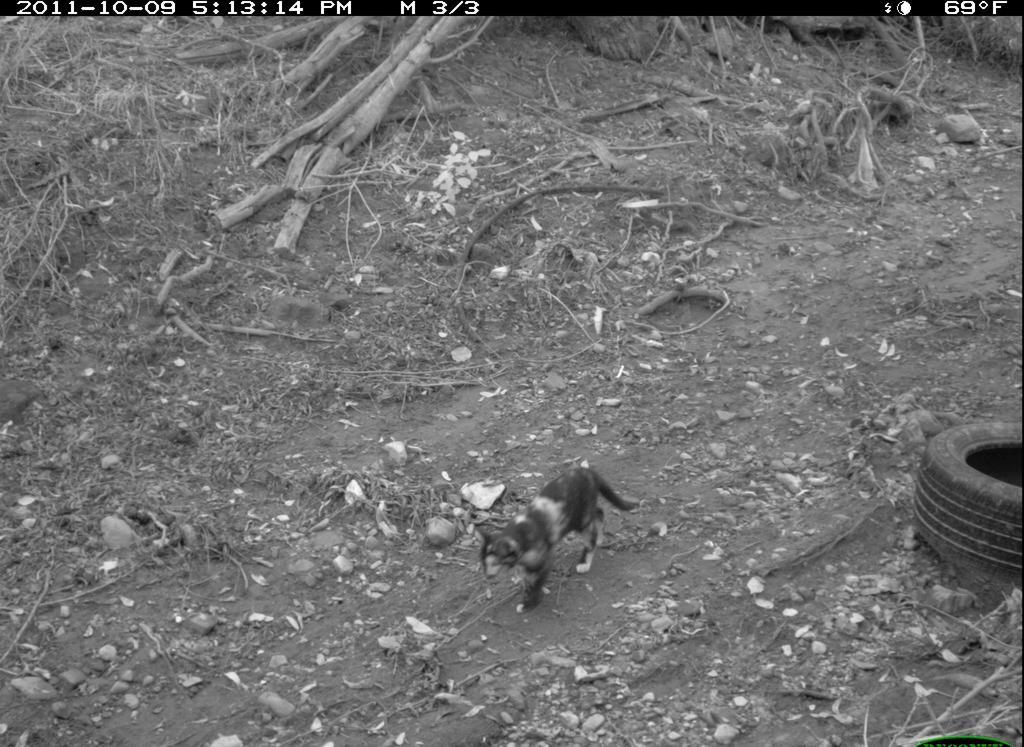cat: (456, 451, 649, 634)
